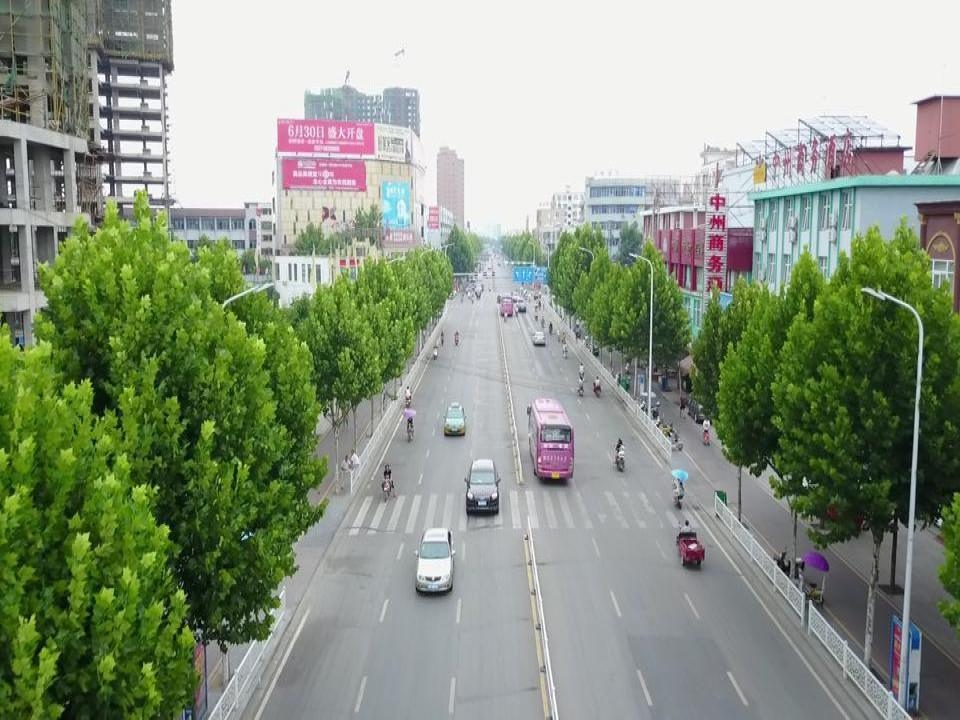bus: (527, 397, 574, 480)
car: (416, 529, 455, 592), (466, 459, 500, 514), (686, 389, 719, 424), (444, 403, 465, 436), (532, 332, 545, 345)
